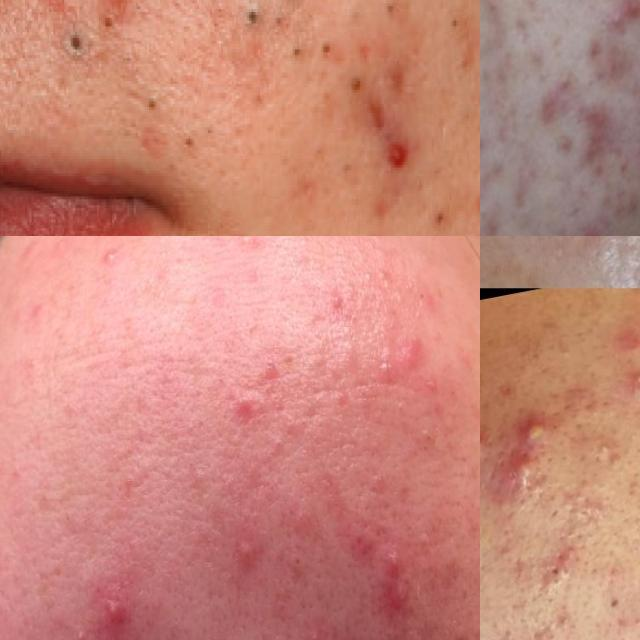acne_scars: (570, 104, 629, 193), (593, 0, 640, 66)
comedone: (537, 534, 594, 591), (548, 55, 594, 110), (560, 482, 616, 520), (542, 330, 578, 365), (620, 359, 640, 399), (480, 105, 490, 166), (557, 0, 590, 14)
cystic: (499, 446, 551, 496)
flat_wart: (588, 236, 640, 288)
papule: (378, 554, 428, 626), (93, 581, 146, 640), (234, 532, 272, 598), (395, 334, 442, 373), (283, 544, 317, 588), (344, 540, 384, 575), (257, 425, 287, 468)
pustule: (520, 392, 563, 447), (76, 241, 137, 275), (594, 426, 624, 462), (311, 236, 361, 254), (70, 616, 89, 640)
